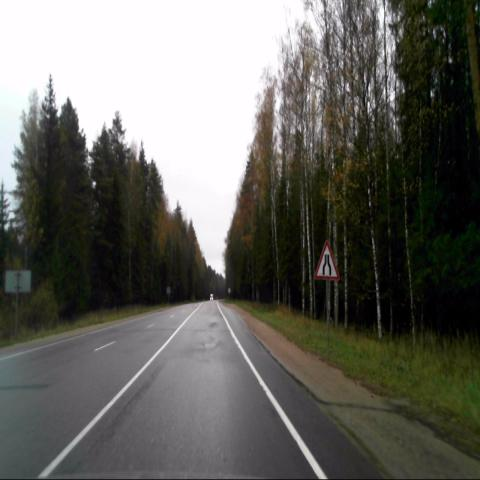1_20: (314, 239, 340, 281)
